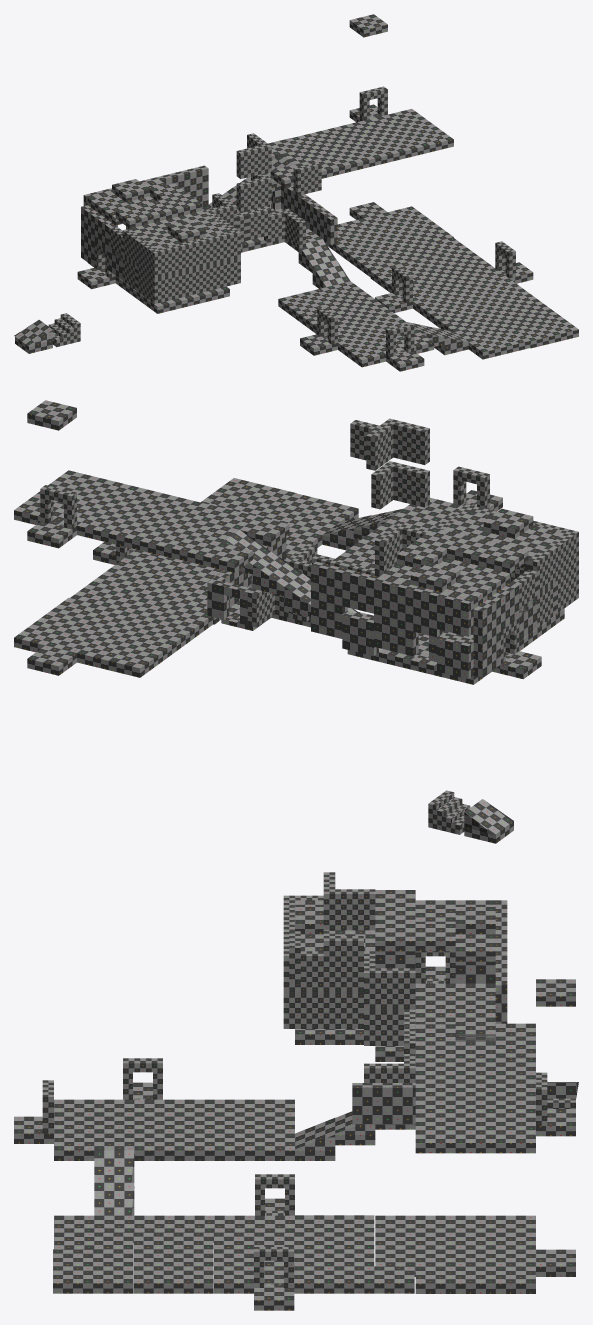
Rendered from LiftMapInProgress.glb.
3 renders of one model, top to bottom at view 1: azimuth 30°, elevation 25°; view 2: azimuth 150°, elevation 25°; view 3: azimuth 270°, elevation 25°, orthographic. The views are drawn at different scales.
Parts seen in each view (by area): view 1: Cube.029-col, Cube.030-col, Cube.063-col, Cube.055-col, Cube.044-col, Cube.038-col, Cube.095-col.001, Cube.064-col, Cube.039-col, Cube.131-col.001, Cube.095-col.016, Cube.095-col.017 (+39 smaller); view 2: Cube.063-col, Cube.044-col, Cube.095-col.001, Cube.016-col, Cube.019-col, Cube.065-col, Cube.095-col.005, Cube.131-col.001, Cube.054-col, Cube.047-col, Cube.020-col, Cube.021-col (+81 smaller); view 3: Cube.063-col, Cube.065-col, Cube.039-col, Cube.044-col, Cube.067-col, Cube.038-col, Cube.043-col, Cube.095-col.016, Cube.095-col.014, Cube.095-col.015, Cube.010-col.005, Cube.010-col.001 (+115 smaller).
Boxes of the visible parts, bbox=[...] form: Cube.029-col: bbox=[136, 239, 185, 278]; Cube.030-col: bbox=[136, 266, 185, 303]; Cube.063-col: bbox=[236, 133, 271, 178]; Cube.055-col: bbox=[264, 209, 305, 248]; Cube.044-col: bbox=[236, 173, 271, 211]; Cube.038-col: bbox=[206, 219, 240, 265]; Cube.095-col.001: bbox=[14, 320, 52, 353]; Cube.064-col: bbox=[293, 162, 321, 195]; Cube.039-col: bbox=[209, 258, 240, 290]; Cube.131-col.001: bbox=[48, 313, 80, 347]; Cube.095-col.016: bbox=[312, 260, 350, 288]; Cube.095-col.017: bbox=[298, 239, 336, 272]; Cube.063-col: bbox=[366, 418, 429, 470]; Cube.044-col: bbox=[371, 461, 429, 509]; Cube.095-col.001: bbox=[464, 799, 513, 843]; Cube.016-col: bbox=[437, 635, 473, 679]; Cube.019-col: bbox=[437, 592, 473, 636]; Cube.065-col: bbox=[375, 523, 428, 574]; Cube.095-col.005: bbox=[253, 551, 301, 596]; Cube.131-col.001: bbox=[428, 790, 470, 834]; Cube.054-col: bbox=[247, 588, 310, 627]; Cube.047-col: bbox=[342, 611, 378, 655]; Cube.020-col: bbox=[405, 584, 441, 628]; Cube.021-col: bbox=[374, 577, 409, 621]; Cube.063-col: bbox=[323, 872, 375, 930]; Cube.065-col: bbox=[364, 951, 415, 1009]; Cube.039-col: bbox=[283, 992, 335, 1028]; Cube.044-col: bbox=[323, 930, 363, 977]; Cube.067-col: bbox=[352, 1083, 392, 1124]; Cube.038-col: bbox=[283, 934, 335, 992]; Cube.043-col: bbox=[364, 1009, 403, 1045]; Cube.095-col.016: bbox=[295, 1118, 335, 1160]; Cube.095-col.014: bbox=[94, 1182, 134, 1215]; Cube.095-col.015: bbox=[94, 1150, 134, 1182]; Cube.010-col.005: bbox=[255, 1174, 294, 1215]; Cube.010-col.001: bbox=[123, 1058, 162, 1099].
Size of the model in its own units: 118 by 67 by 98.5.
Materials: 1 (1 with a texture image).
